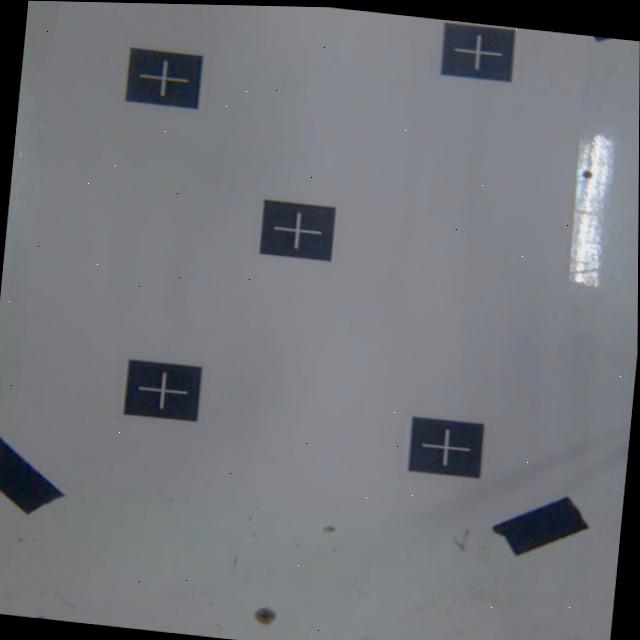dot: (122, 359, 203, 424), (120, 47, 203, 108), (437, 21, 516, 83), (259, 200, 337, 262), (406, 416, 484, 477)
